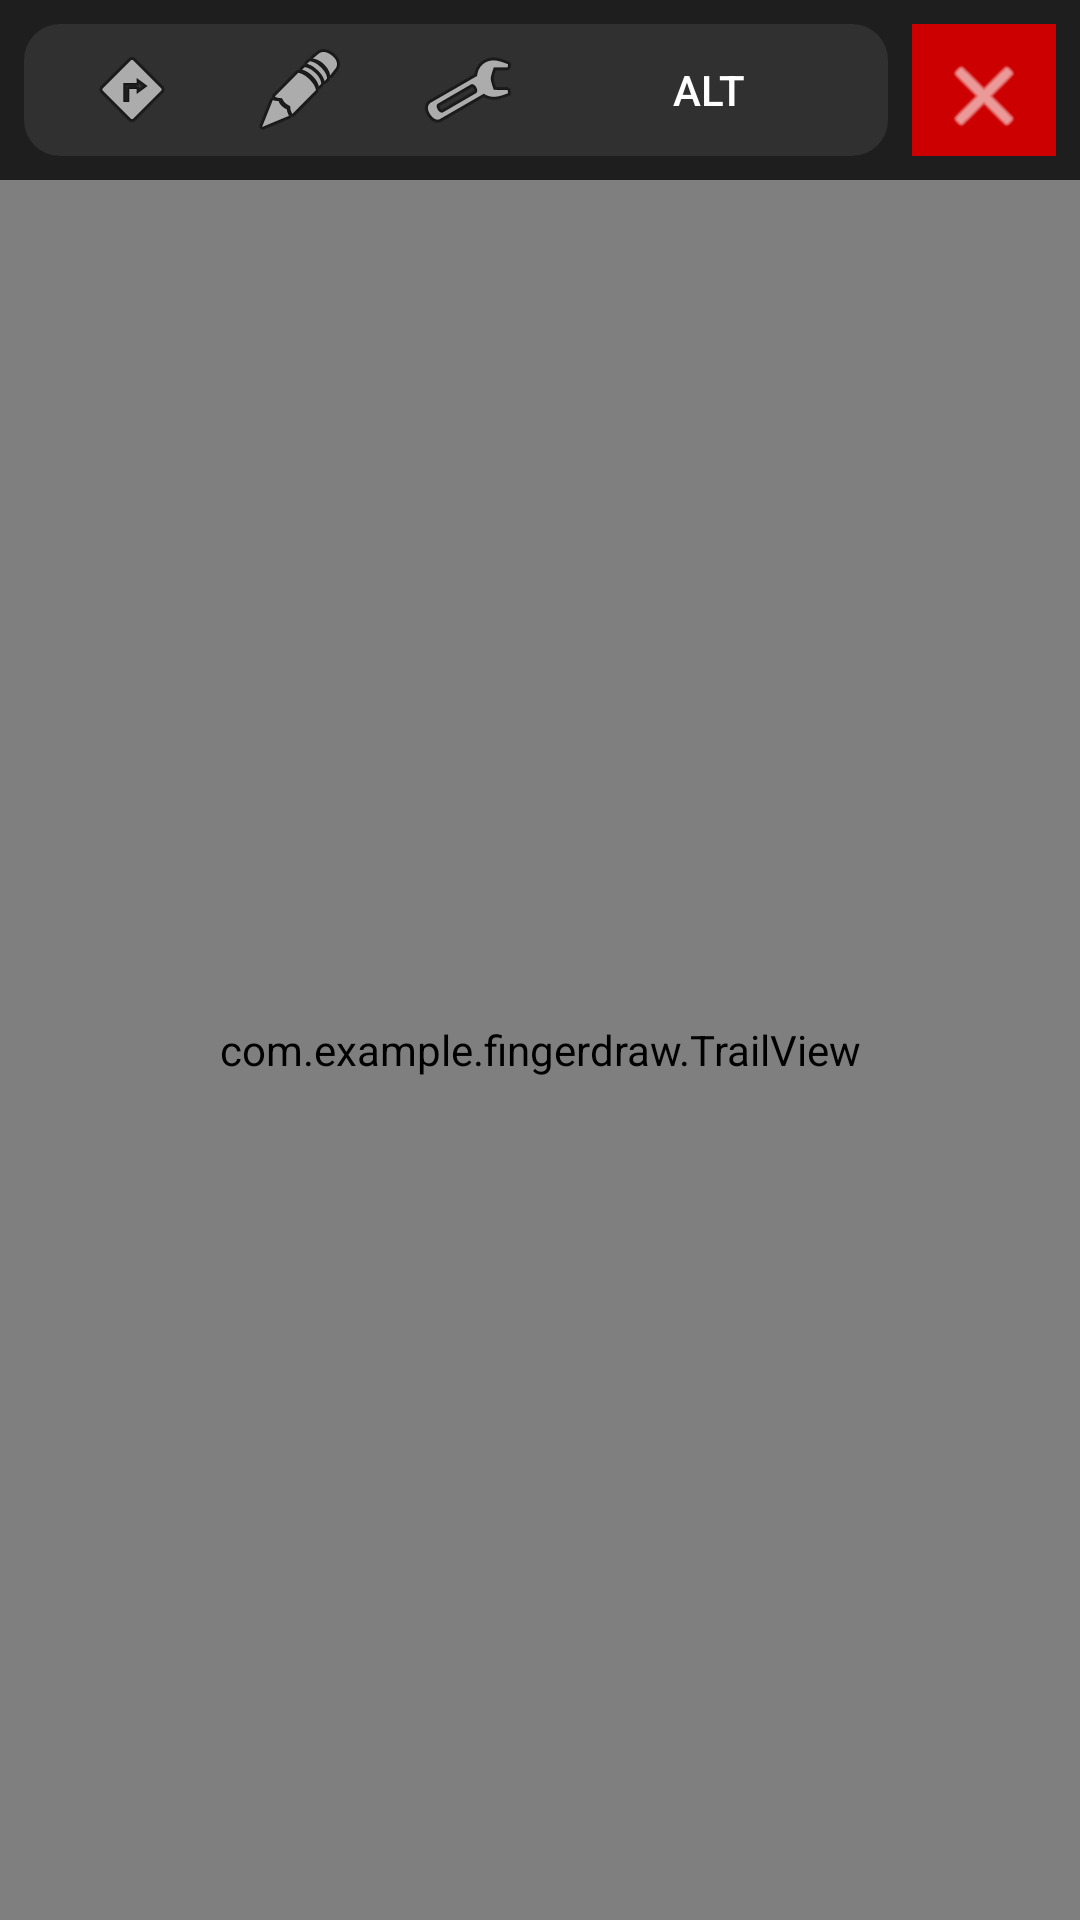

Screen size 1080px×1920px. Icon name, then its box in pixels as [left=x1, top=y1, right=x2, bottom=y2]:
Disconnect: [left=912, top=24, right=1056, bottom=156]
Pen Mode: [left=261, top=51, right=338, bottom=128]
Pointer Mode: [left=101, top=59, right=163, bottom=120]
Settings: [left=427, top=59, right=509, bottom=121]
